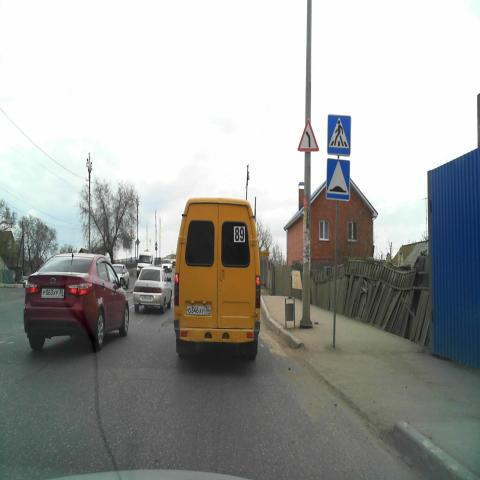1_11_1: (298, 120, 318, 152)
